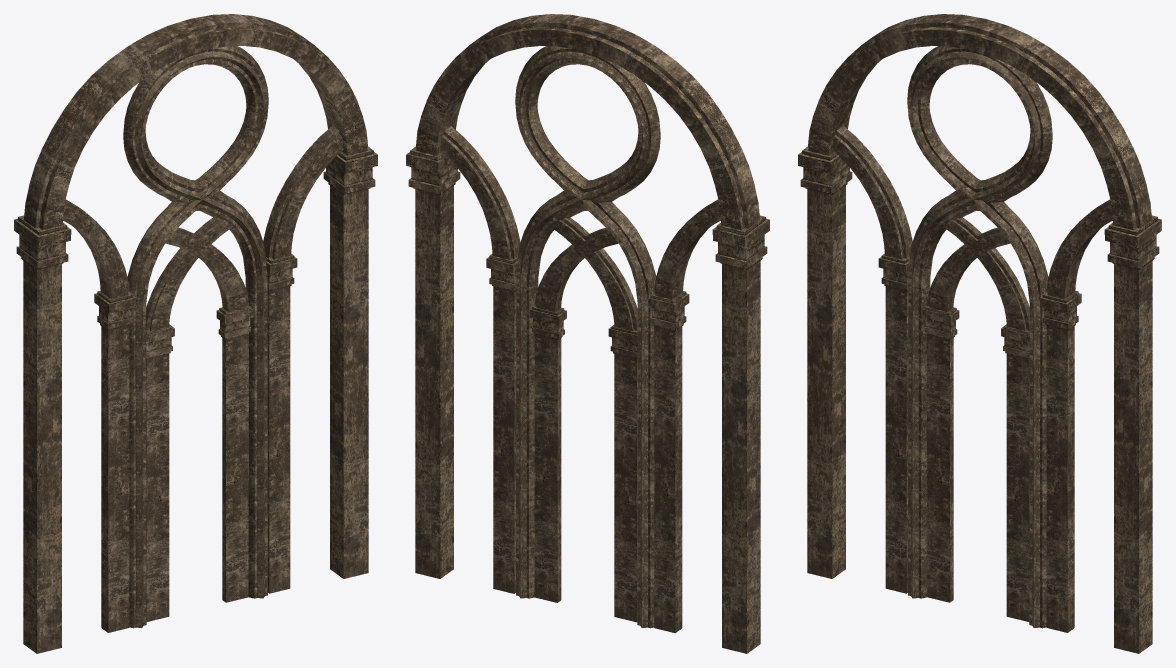
File: materials_5_decoration_1.fbx
3 views of the same model, side by side, from view 1: azimuth 30°, elevation 25°; view 2: azimuth 150°, elevation 25°; view 3: azimuth 330°, elevation 25° (orthographic).
Visible parts, largest first — view 1: materials_5_decoration_1; view 2: materials_5_decoration_1; view 3: materials_5_decoration_1.
Boxes of the visible parts, left/top/right/bottom form: materials_5_decoration_1: left=14, top=14, right=377, bottom=653; materials_5_decoration_1: left=406, top=14, right=769, bottom=653; materials_5_decoration_1: left=798, top=14, right=1161, bottom=653.
Bounding box in the file's own units: 183 × 301 × 22.82.
